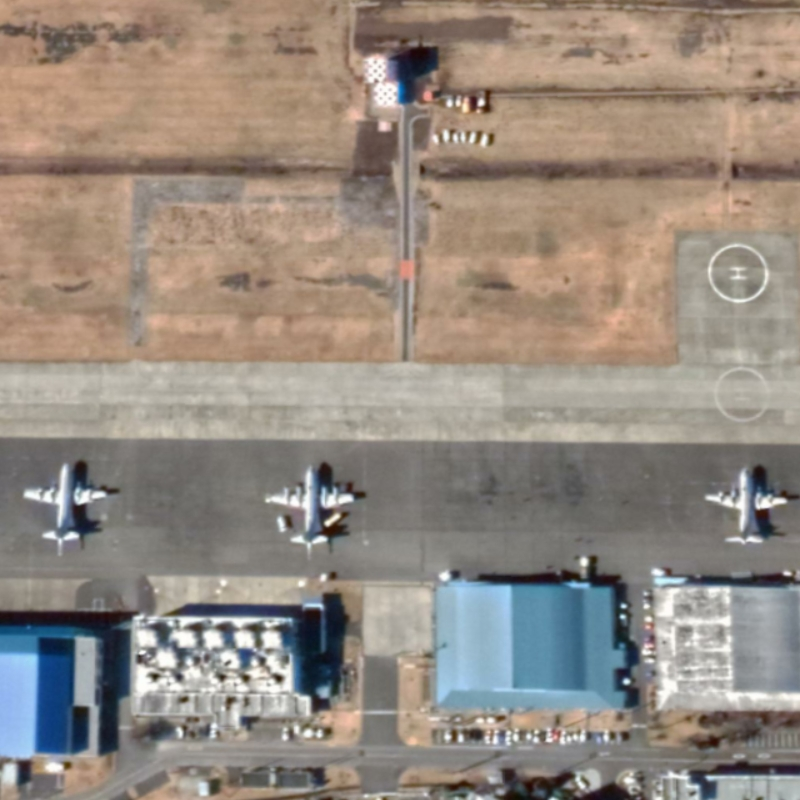A9: (18, 454, 125, 559), (259, 457, 360, 564), (701, 461, 795, 546)
